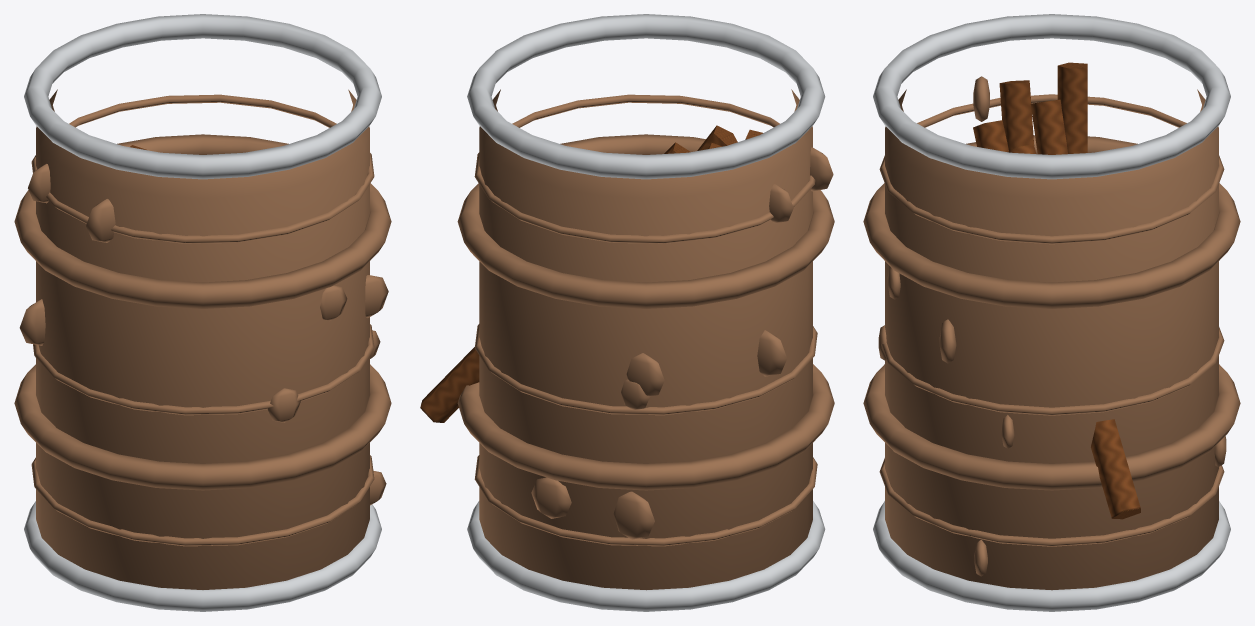
File: fps-survival-forest-outpost-oil-drum-open-e354f8b6__32693.glb
3 renders of one model, left to right at view 1: azimuth 30°, elevation 25°; view 2: azimuth 150°, elevation 25°; view 3: azimuth 270°, elevation 25°, orthographic.
Visible parts, largest first — view 1: oil-drum-open; view 2: oil-drum-open; view 3: oil-drum-open.
Boxes of the visible parts, x1,y1,x2,y2 form: oil-drum-open: (14, 14, 391, 611); oil-drum-open: (420, 14, 834, 611); oil-drum-open: (863, 14, 1240, 611).
Bounding box in the file's own units: 0.7302 × 0.9111 × 0.678.
5 materials, 1 textured.
